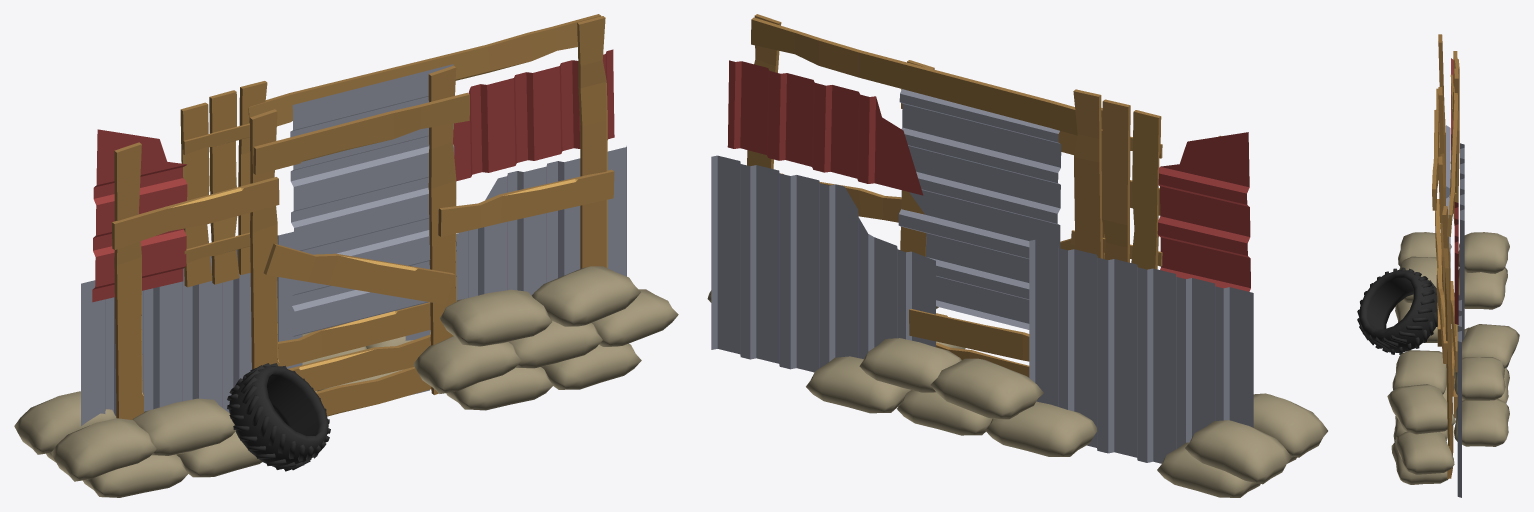
Rendered from Barrier_Trash.glb.
3 renders of one model, left to right at view 1: azimuth 30°, elevation 25°; view 2: azimuth 150°, elevation 25°; view 3: azimuth 270°, elevation 25°, orthographic. The views are drawn at different scales.
Parts seen in each view (by area): view 1: Barrier_Trash; view 2: Barrier_Trash; view 3: Barrier_Trash.
Boxes of the visible parts, bbox=[...] form: Barrier_Trash: bbox=[14, 14, 678, 497]; Barrier_Trash: bbox=[707, 14, 1327, 497]; Barrier_Trash: bbox=[1357, 34, 1519, 497].
Bounding box in the file's own units: 4.49 × 2.51 × 1.31.
